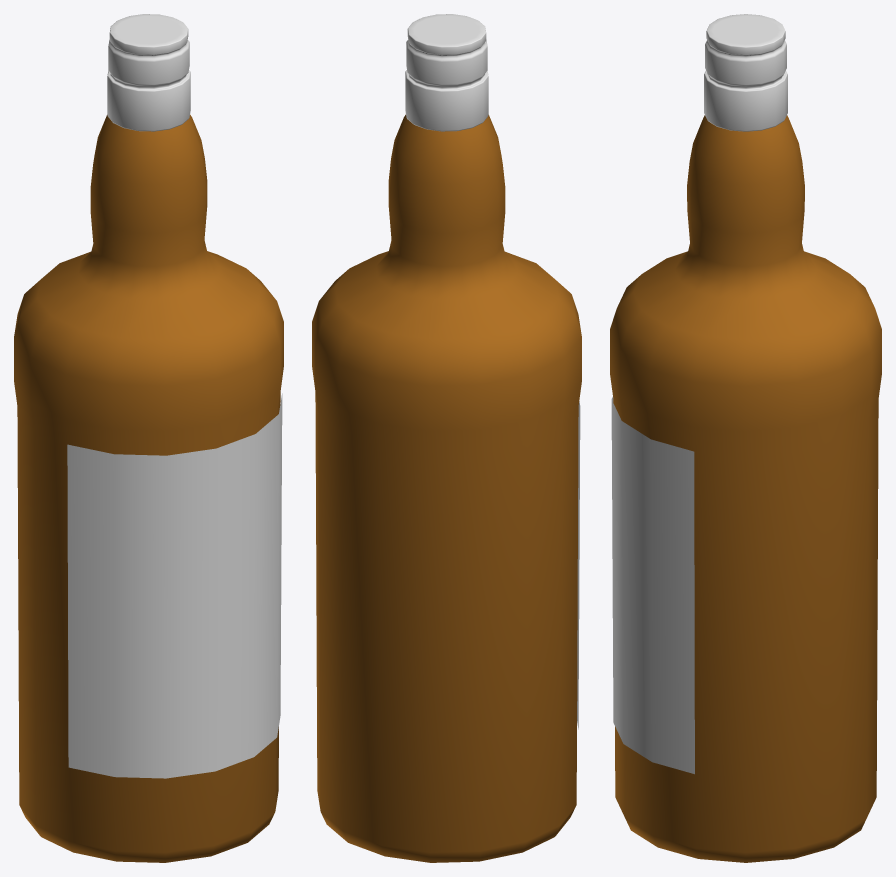
The model's file is MESH_Bottle_J.fbx.
3 views of the same model, side by side, from view 1: azimuth 30°, elevation 25°; view 2: azimuth 150°, elevation 25°; view 3: azimuth 270°, elevation 25° (orthographic).
Visible parts, largest first — view 1: Bottle_J; view 2: Bottle_J; view 3: Bottle_J.
Part boxes in pixels (box(x1,y1,x2,y2)): Bottle_J: box(14, 14, 283, 862); Bottle_J: box(312, 14, 581, 862); Bottle_J: box(610, 14, 881, 862).
Bounding box in the file's own units: 15.55 × 49.55 × 15.55.
